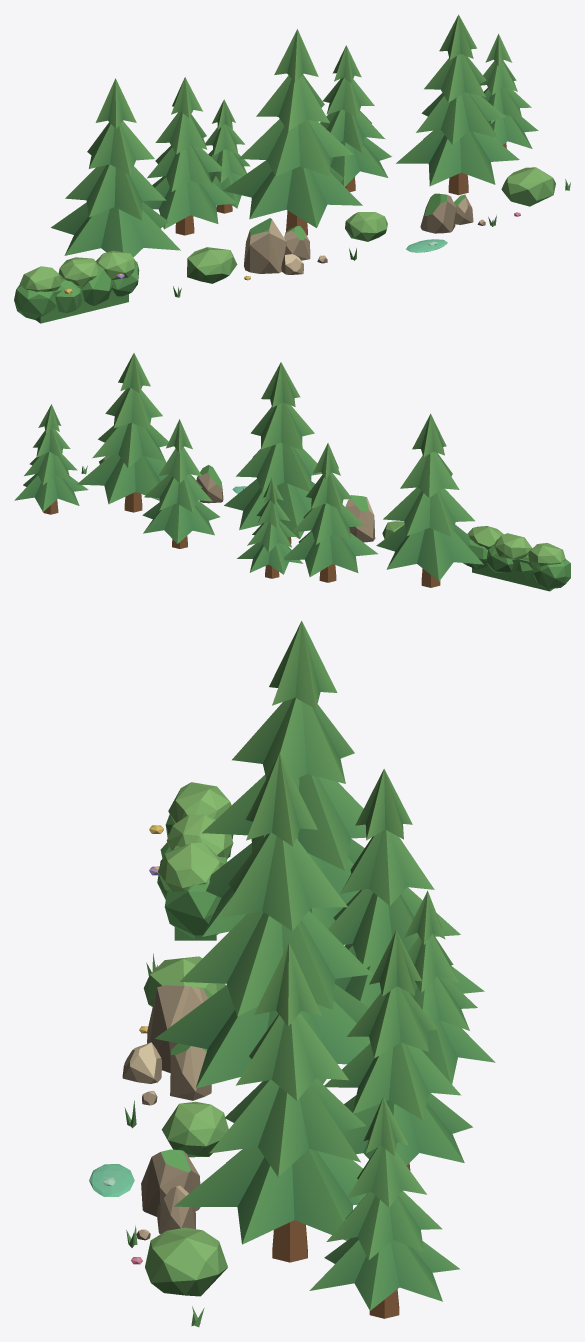
File: ranch_border_chunk_d.fbx
3 renders of one model, top to bottom at view 1: azimuth 30°, elevation 25°; view 2: azimuth 150°, elevation 25°; view 3: azimuth 270°, elevation 25°, orthographic. The views are drawn at different scales.
Parts seen in each view (by area): view 1: ranch_border_chunk_d; view 2: ranch_border_chunk_d; view 3: ranch_border_chunk_d.
Part boxes in pixels (x1,y1,x2,y2): ranch_border_chunk_d: [14, 14, 570, 323]; ranch_border_chunk_d: [14, 353, 570, 591]; ranch_border_chunk_d: [89, 621, 495, 1327].
Size of the model in its own units: 55.35 by 19.04 by 19.38.
